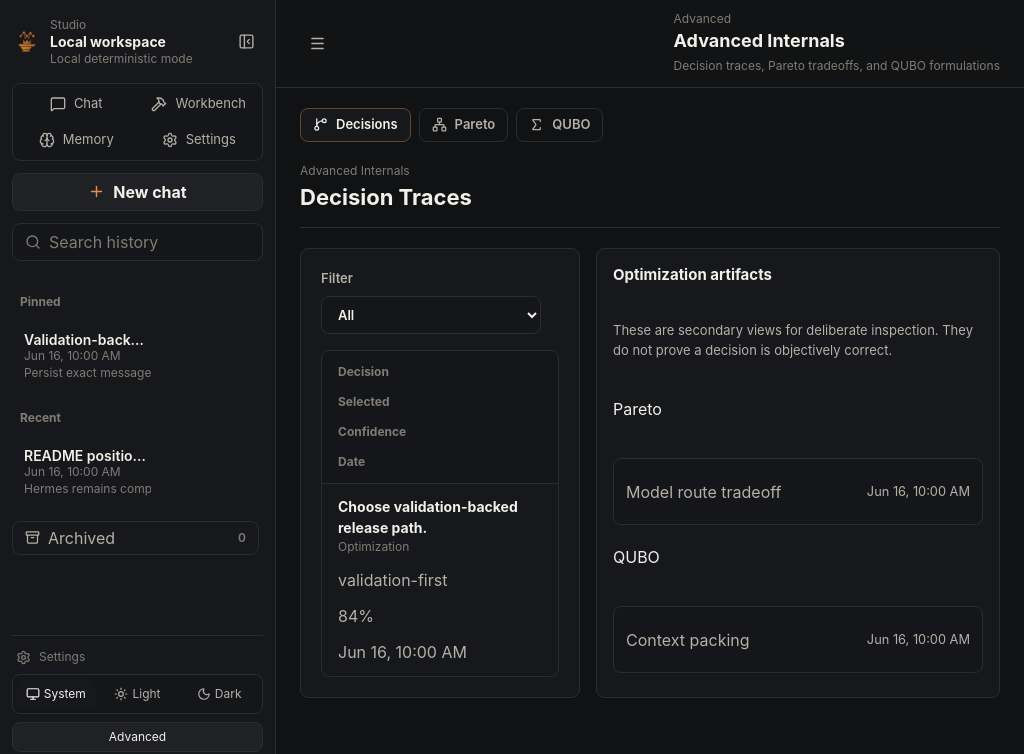
StudioApp › opens Advanced decision, Pareto, and QUBO views with table fallbacks
Click the text "Choose validation-backed release path.": (440, 517) 338,496 -> 542,538
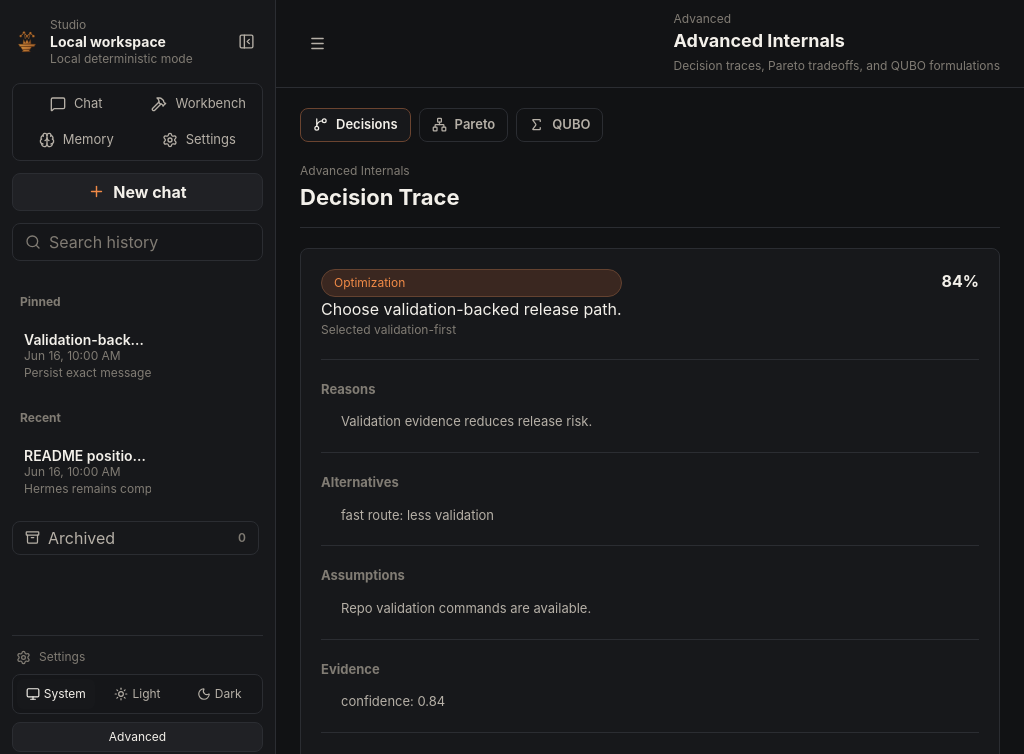
Expected: the list item "Validation evidence reduces release risk." is shown, 341,413 -> 592,429
Click the button "Decisions": (355, 125) 300,108 -> 411,142
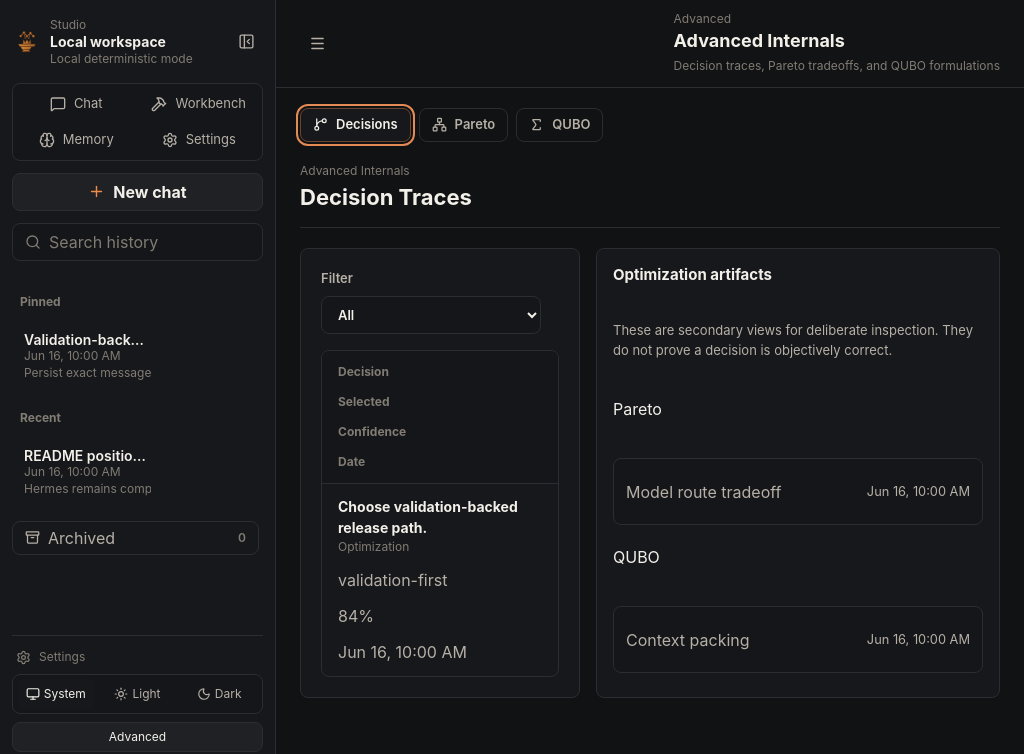
Click the text "Model route tradeoff": (704, 492) 626,480 -> 782,504
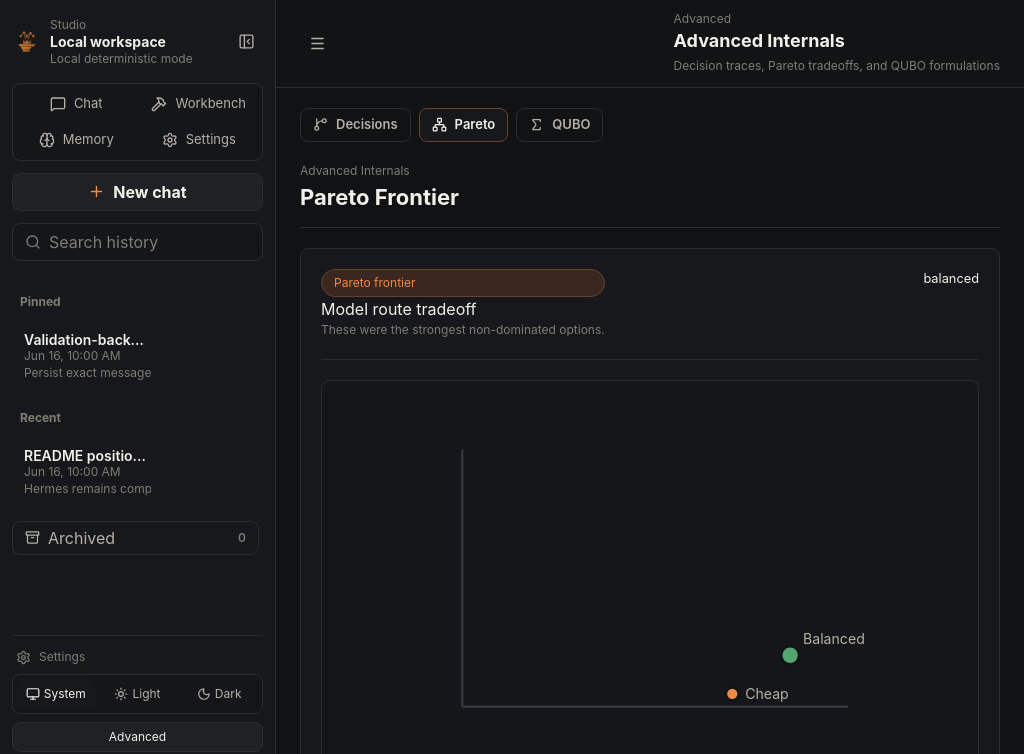
Expected: the text "Balanced" is shown, 803,629 -> 865,646
Click the button "Decisions": (355, 125) 300,108 -> 411,142
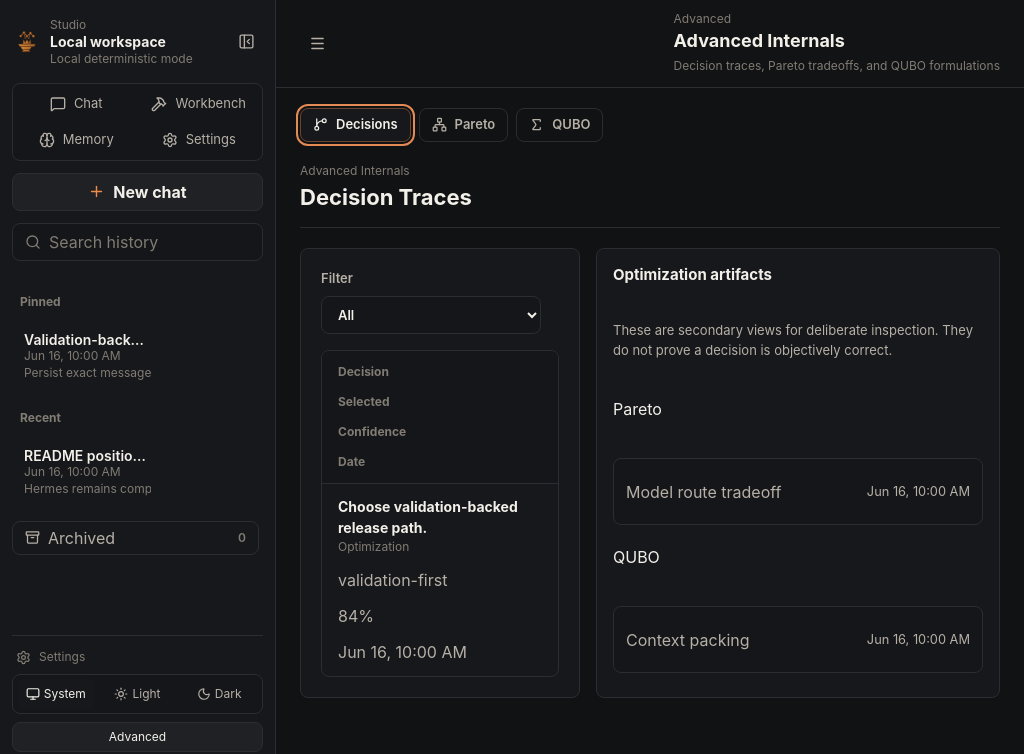
Click the text "Context packing": (688, 640) 626,628 -> 750,652
(page scrolled)
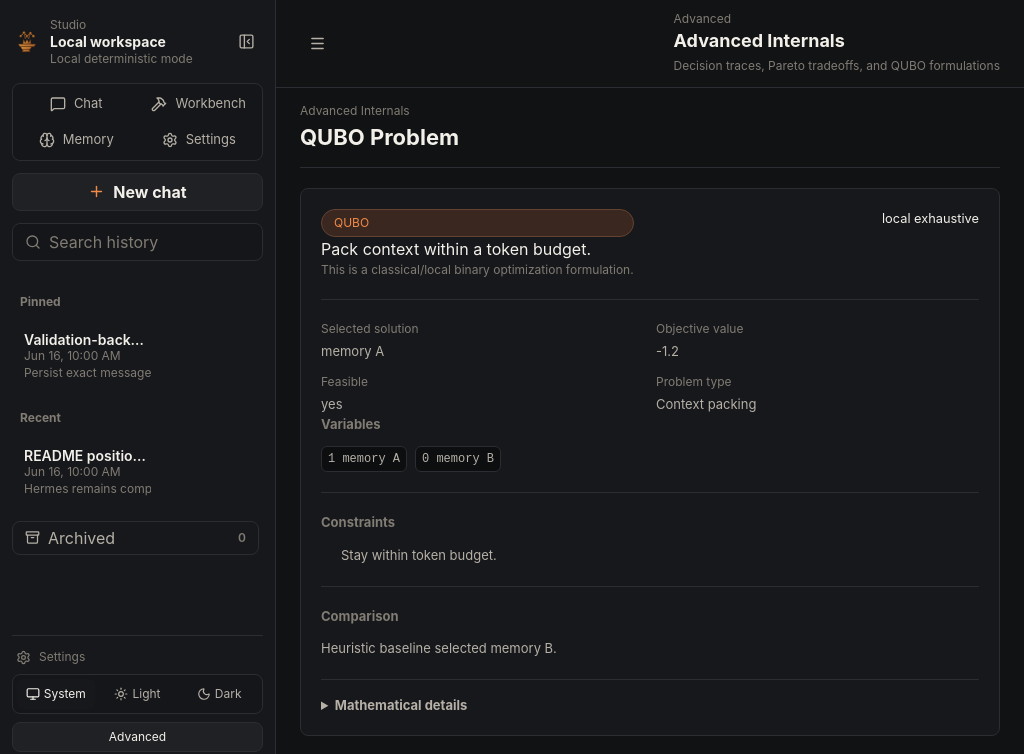
Expected: the heading "Pack context within a token budget." is shown, 321,237 -> 634,261
Expected: the heading "Mathematical details" is shown, 335,697 -> 467,713
